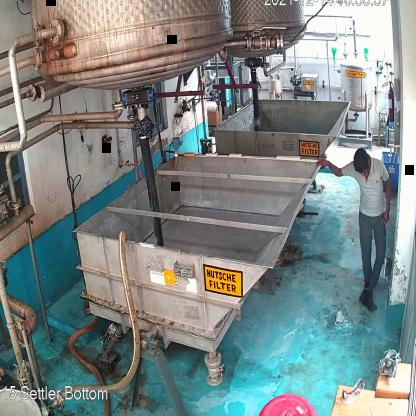no_glove: (315, 151, 344, 181), (380, 176, 394, 229)
shoes: (363, 290, 378, 315)
